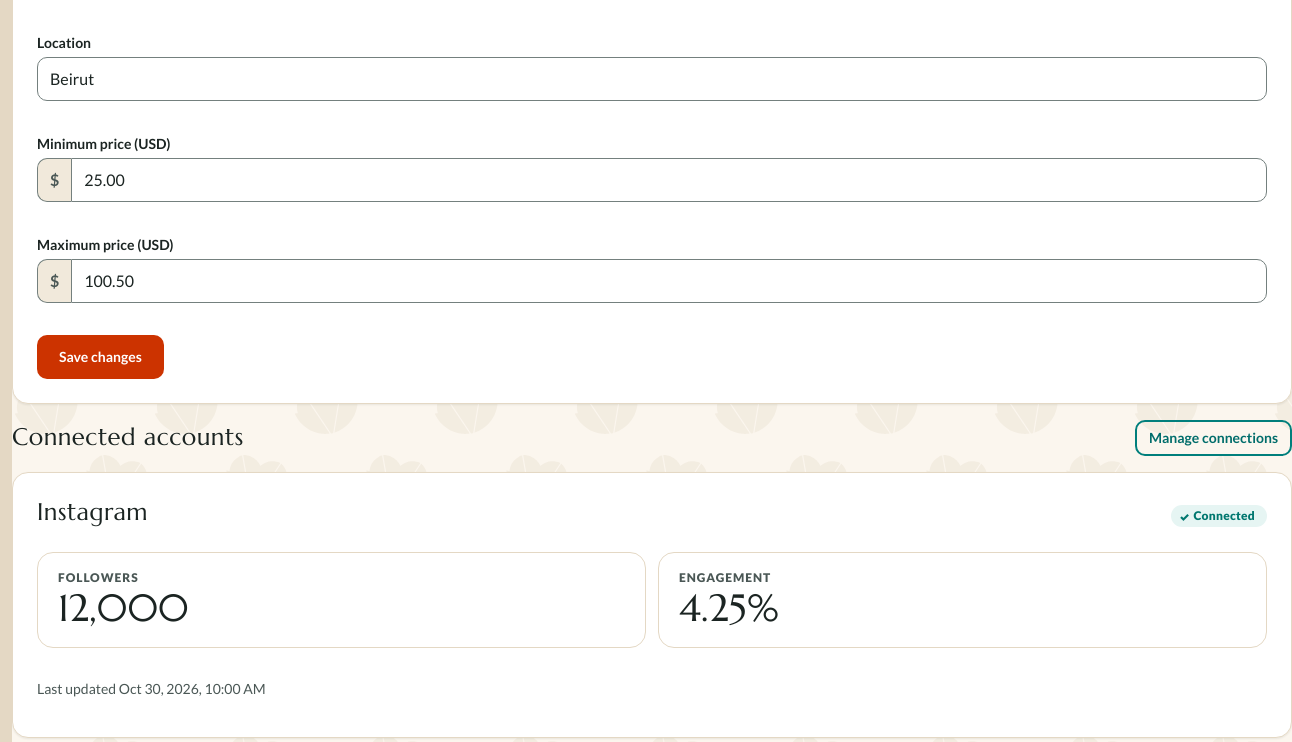
Test: saving the details › shows the server's message when the edit is refused
(page scrolled)
Click the button "Save changes". click: point(100, 357)
box: [37,335,164,379]
(page scrolled)
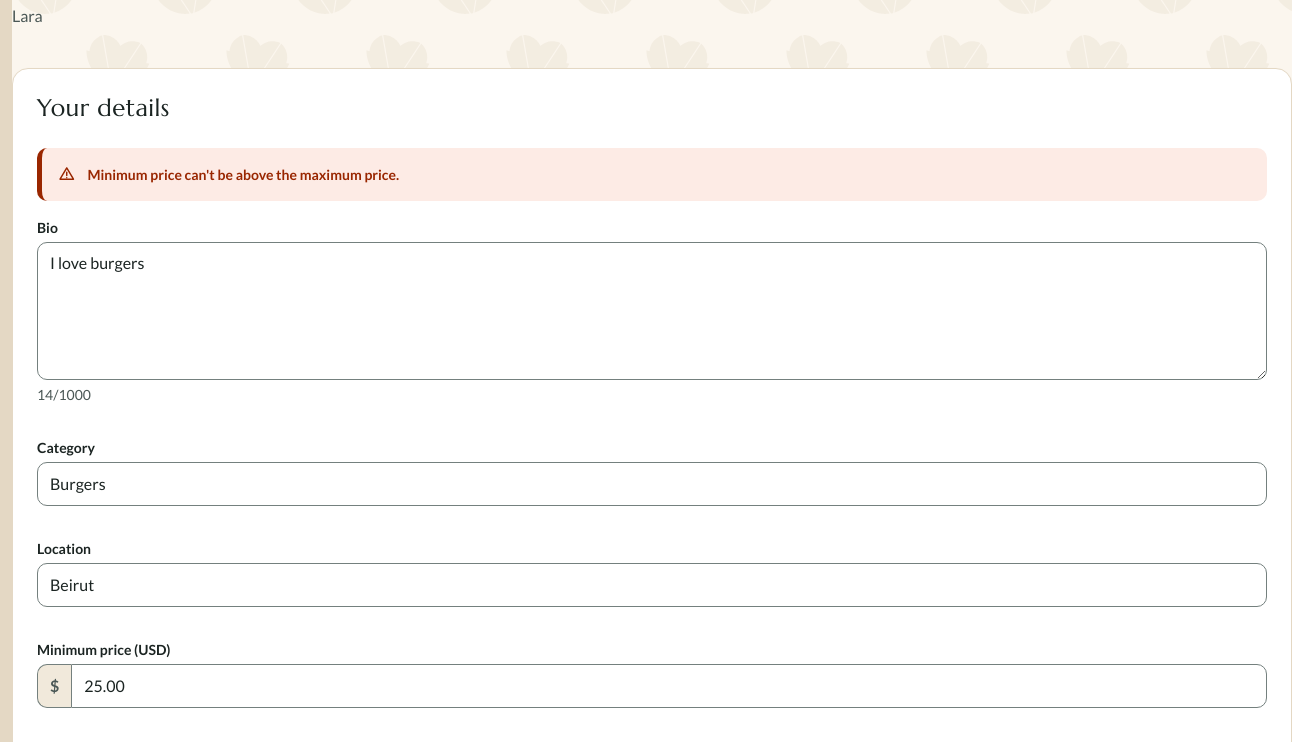
Expected: the message reads "Minimum price can't be above the maximum price.", [88,166,399,183]
